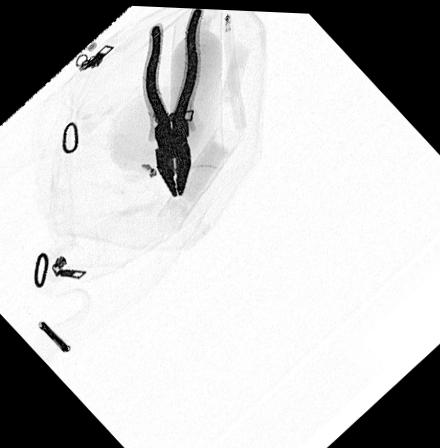Pliers: (143, 7, 206, 196)
